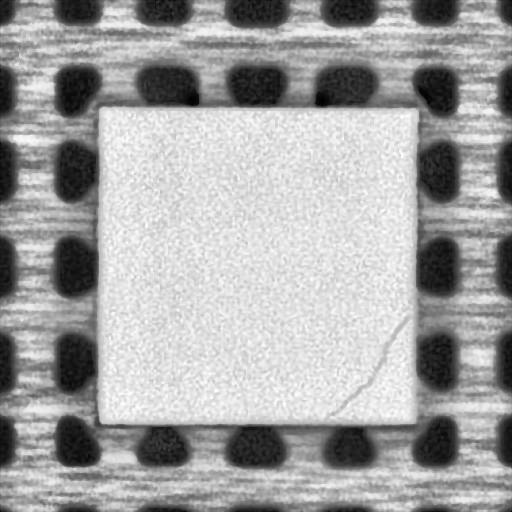DIE_CRACK: (330, 312, 410, 417)
